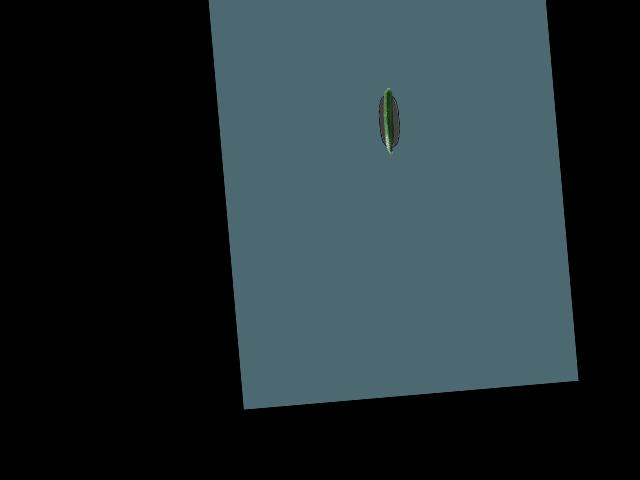cucumber: (381, 87, 397, 155)
